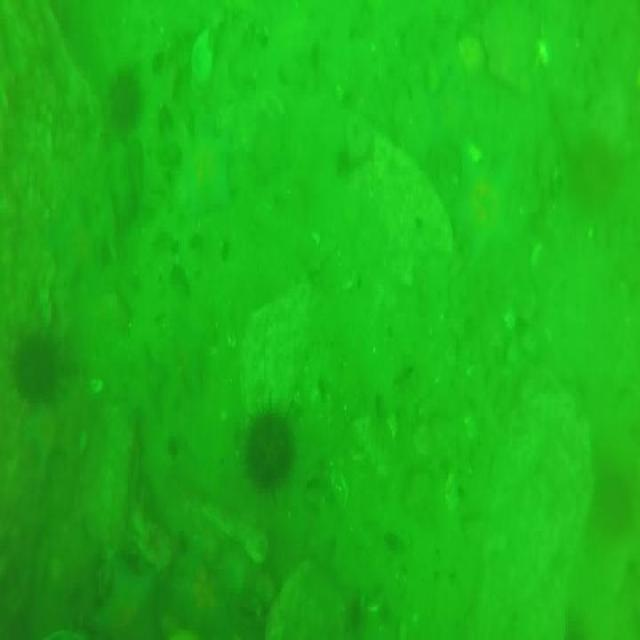echinus: (89, 553, 162, 640), (242, 409, 296, 504), (177, 137, 232, 215), (58, 516, 100, 612), (11, 329, 58, 411), (106, 71, 138, 136)
